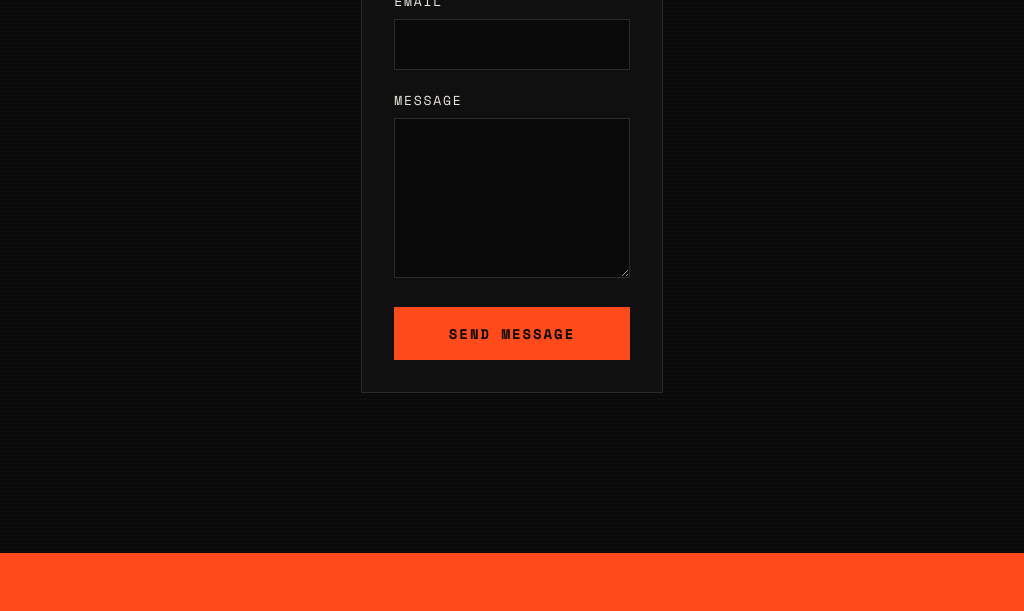
Scenario: Contact page › keeps an incomplete note on the page
The width and height of the screenshot is (1024, 611).
(page scrolled)
Click the button "Send message".
click(512, 333)  # box [394, 307, 630, 360]
(page scrolled)
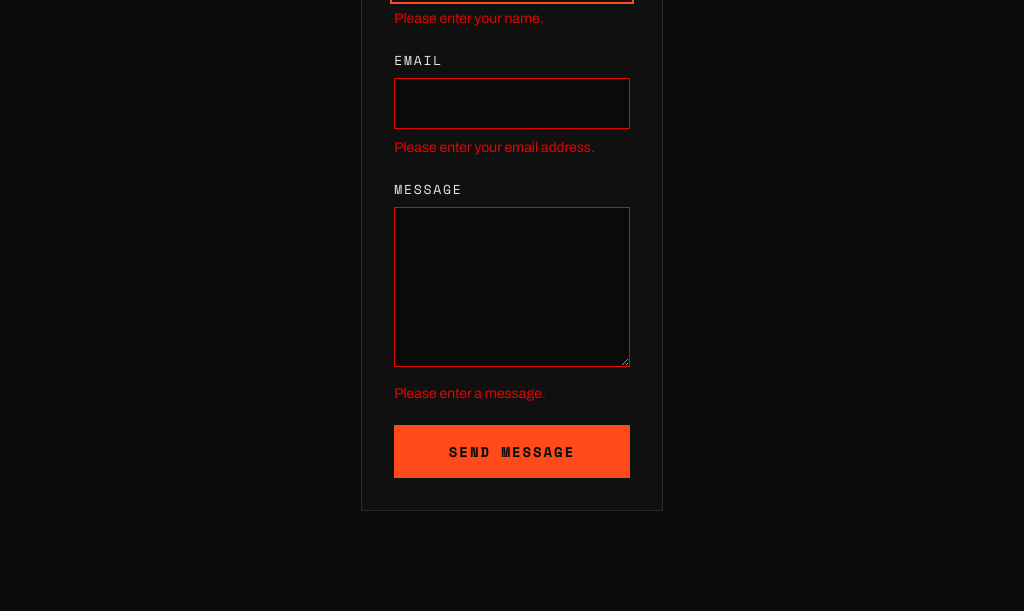
Expected: the text "Please enter your name." is shown, [394, 11, 544, 26]
